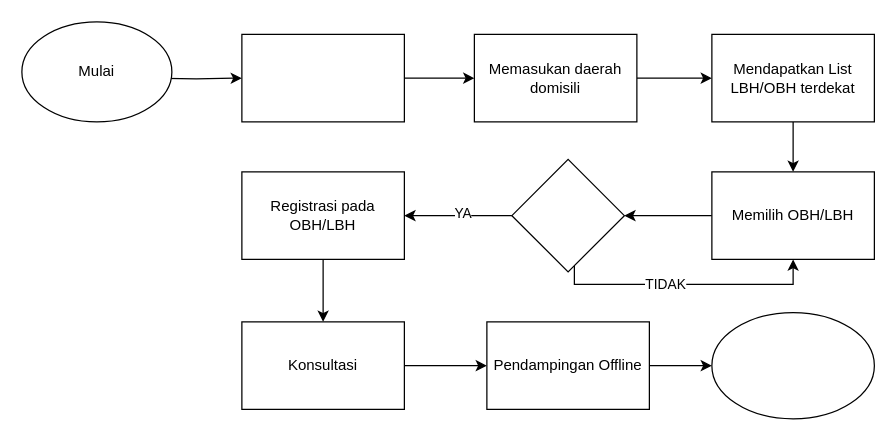
Image size: 896x441. Some labels were removed from this diagram. The centre of each missing label's shape, as x and y in pixels:
OBH/LBH Dipilih: (567,215)
Registrasi Akun: (322,77)
Selesai: (792,365)
